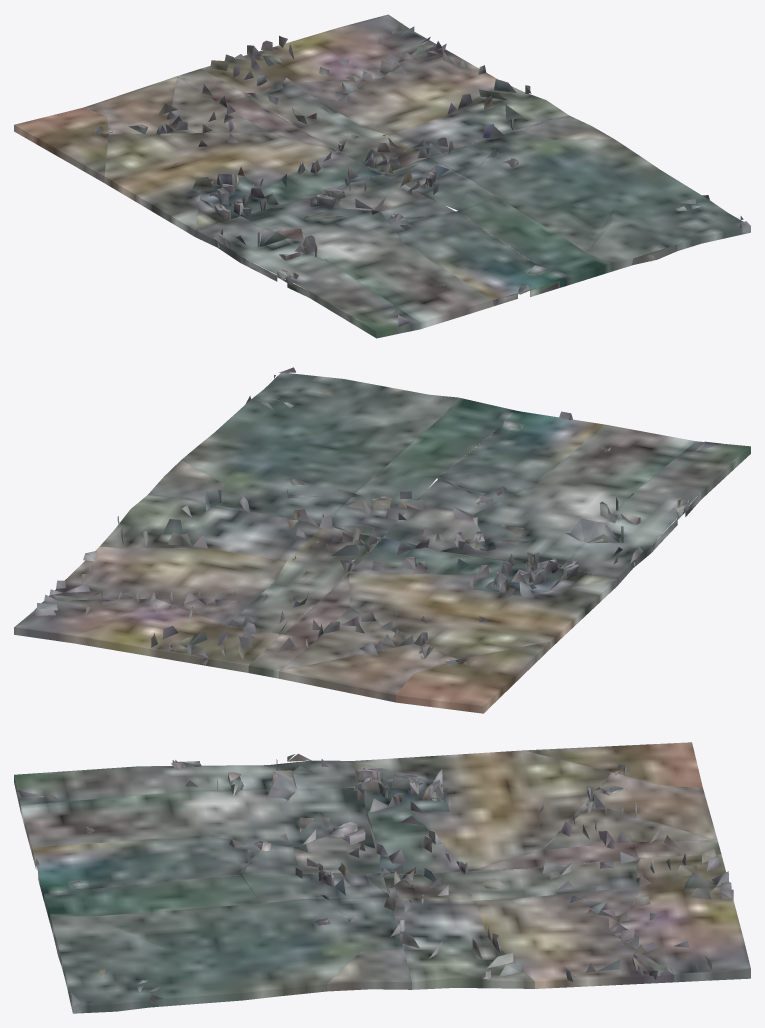
The picture shows the model from 3 angles, top to bottom: view 1: azimuth 30°, elevation 25°; view 2: azimuth 150°, elevation 25°; view 3: azimuth 270°, elevation 25°; orthographic projection. The views are drawn at different scales.
Parts seen in each view (by area): view 1: Mesh_0; view 2: Mesh_0; view 3: Mesh_0.
Part boxes in pixels (box(x1,y1,x2,y2)): Mesh_0: box(14, 14, 750, 338); Mesh_0: box(14, 367, 750, 713); Mesh_0: box(14, 742, 750, 1013).
Size of the model in its own units: 2128 by 139 by 2636.
1 material, 1 textured.
